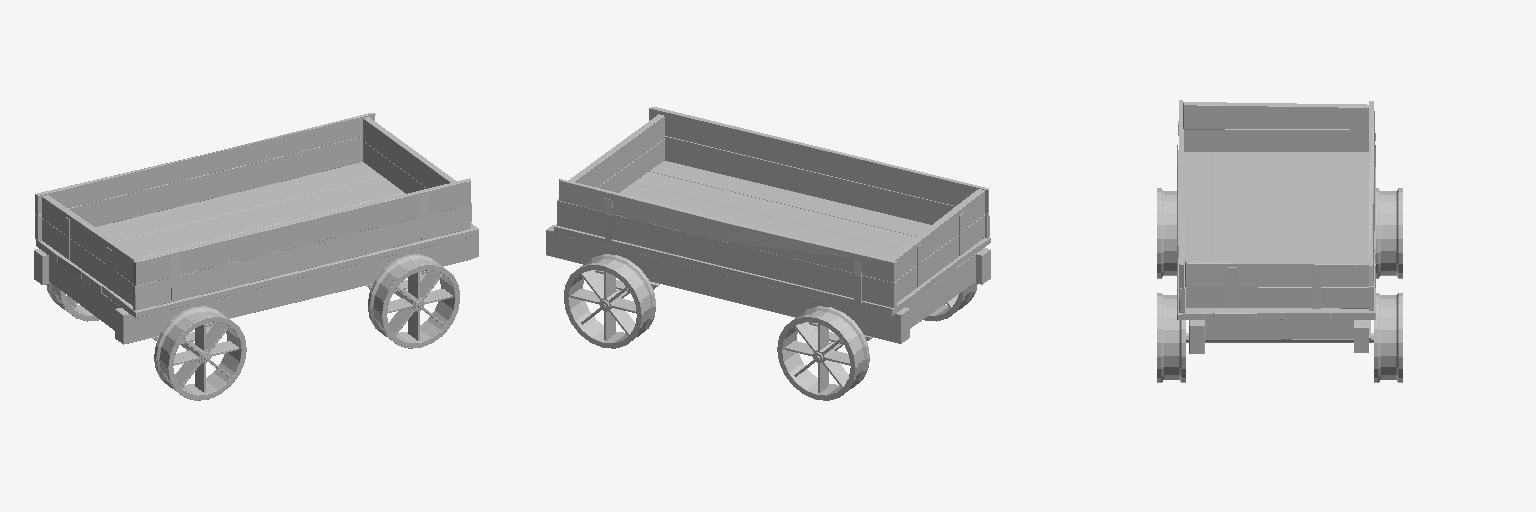
Rendered from cart.obj.
3 renders of one model, left to right at view 1: azimuth 30°, elevation 25°; view 2: azimuth 150°, elevation 25°; view 3: azimuth 270°, elevation 25°, orthographic.
Visible parts, largest first — view 1: Cube.357, Cube.026; view 2: Cube.357, Cube.026; view 3: Cube.357, Cube.026.
Part boxes in pixels (bbox=[...]): Cube.357: bbox=[34, 113, 478, 400]; Cube.026: bbox=[65, 194, 428, 299]; Cube.357: bbox=[546, 107, 990, 400]; Cube.026: bbox=[604, 198, 964, 303]; Cube.357: bbox=[1157, 100, 1402, 382]; Cube.026: bbox=[1177, 121, 1375, 308].
Bounding box in the file's own units: 1.59 × 0.6181 × 0.9524.